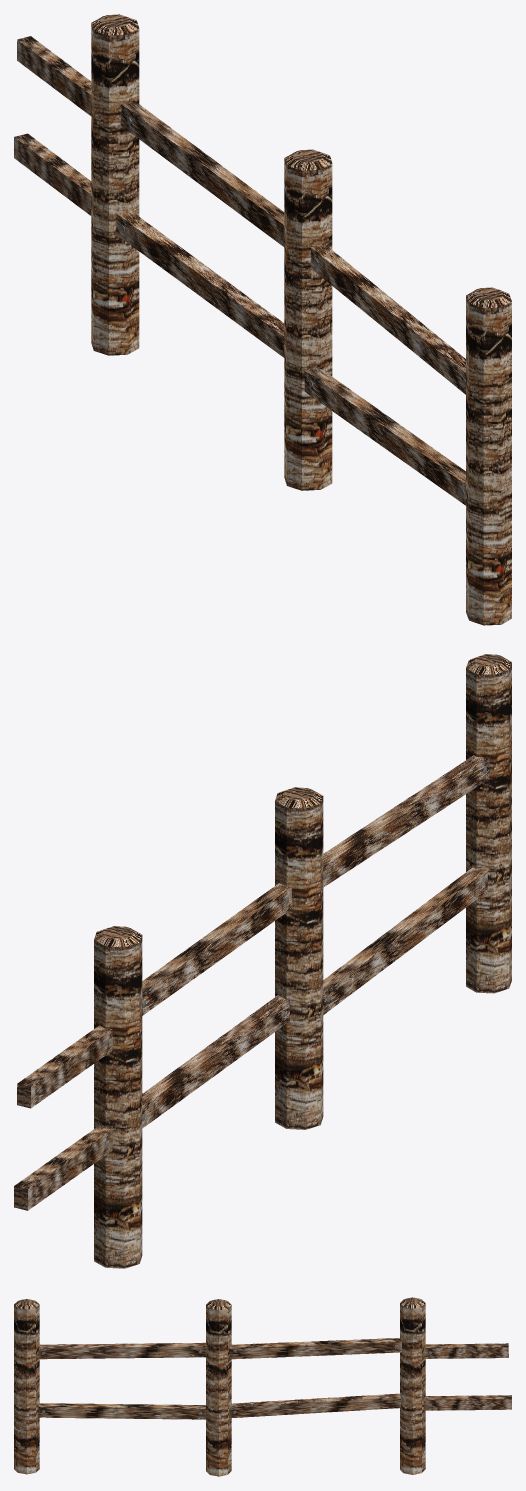
File: fence_end.fbx
The picture shows the model from 3 angles, top to bottom: view 1: azimuth 30°, elevation 25°; view 2: azimuth 150°, elevation 25°; view 3: azimuth 270°, elevation 25°; orthographic projection. The views are drawn at different scales.
Visible parts, largest first — view 1: pCylinder3, pCylinder1, pCylinder2, pCube2, pCube1, pCube3, pCube4, pCube7, pCube8; view 2: pCylinder2, pCylinder1, pCylinder3, pCube3, pCube4, pCube1, pCube2, pCube7, pCube8; view 3: pCylinder2, pCylinder3, pCylinder1, pCube1, pCube2, pCube4, pCube3, pCube7, pCube8.
Boxes of the visible parts, x1,y1,x2,y2 form: pCylinder3: (466,287,511,625); pCylinder1: (91,14,139,355); pCylinder2: (284,149,332,490); pCube2: (116,211,284,357); pCube1: (120,100,284,246); pCube3: (304,369,465,505); pCube4: (310,244,465,394); pCube7: (14,133,91,215); pCube8: (17,36,91,115); pCylinder2: (275,787,323,1129); pCylinder1: (94,926,142,1268); pCylinder3: (466,654,511,993); pCube3: (323,867,487,1014); pCube4: (323,755,489,887); pCube1: (142,883,292,1015); pCube2: (142,995,289,1128); pCube7: (14,1125,112,1210); pCube8: (17,1025,112,1108); pCylinder2: (206,1299,231,1476); pCylinder3: (14,1299,39,1474); pCylinder1: (400,1297,425,1474); pCube1: (229,1338,401,1359); pCube2: (229,1393,400,1418); pCube4: (39,1342,207,1359); pCube3: (38,1403,205,1419); pCube7: (423,1395,511,1410); pCube8: (423,1343,508,1358).
Size of the model in its own units: 0.9353 by 5.86 by 15.7.
2 materials, 1 textured.
